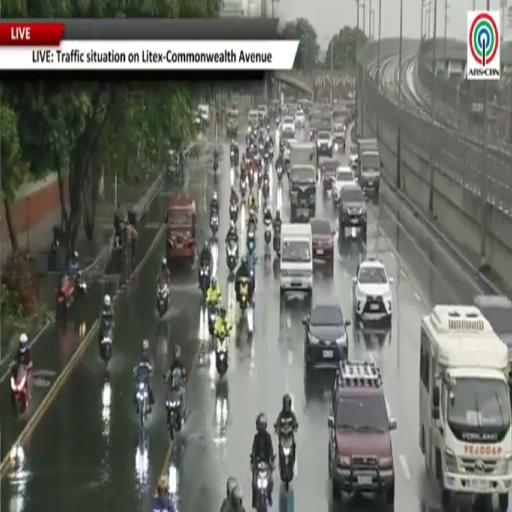car: (328, 362, 396, 506), (303, 297, 350, 370), (474, 296, 511, 385), (352, 258, 392, 325), (338, 183, 367, 241), (309, 218, 334, 261), (354, 325, 391, 351), (333, 167, 356, 202), (319, 158, 340, 193), (317, 131, 332, 157), (348, 144, 358, 168), (309, 120, 319, 141), (282, 116, 295, 132), (308, 106, 320, 122), (295, 109, 305, 127), (258, 104, 267, 122)
motorcycle: (166, 371, 184, 441), (275, 424, 294, 490), (11, 365, 29, 414), (255, 461, 270, 511), (57, 275, 74, 315), (216, 330, 229, 377), (137, 381, 149, 427), (100, 324, 113, 365), (48, 227, 59, 270), (157, 281, 169, 317), (227, 239, 238, 273), (74, 270, 87, 297), (200, 265, 210, 300), (239, 278, 248, 313), (208, 304, 218, 335), (264, 219, 271, 246), (247, 230, 255, 253), (210, 213, 218, 235), (273, 232, 280, 257), (230, 202, 238, 222), (262, 179, 269, 201), (240, 180, 247, 200), (248, 168, 254, 190), (230, 148, 236, 166), (276, 166, 282, 182), (213, 159, 218, 176), (269, 143, 273, 160), (258, 141, 263, 154), (264, 152, 269, 165), (275, 116, 280, 126)
truck: (420, 306, 511, 510), (280, 223, 312, 297), (289, 142, 317, 221), (166, 192, 196, 265), (357, 139, 381, 197), (226, 109, 238, 138)
